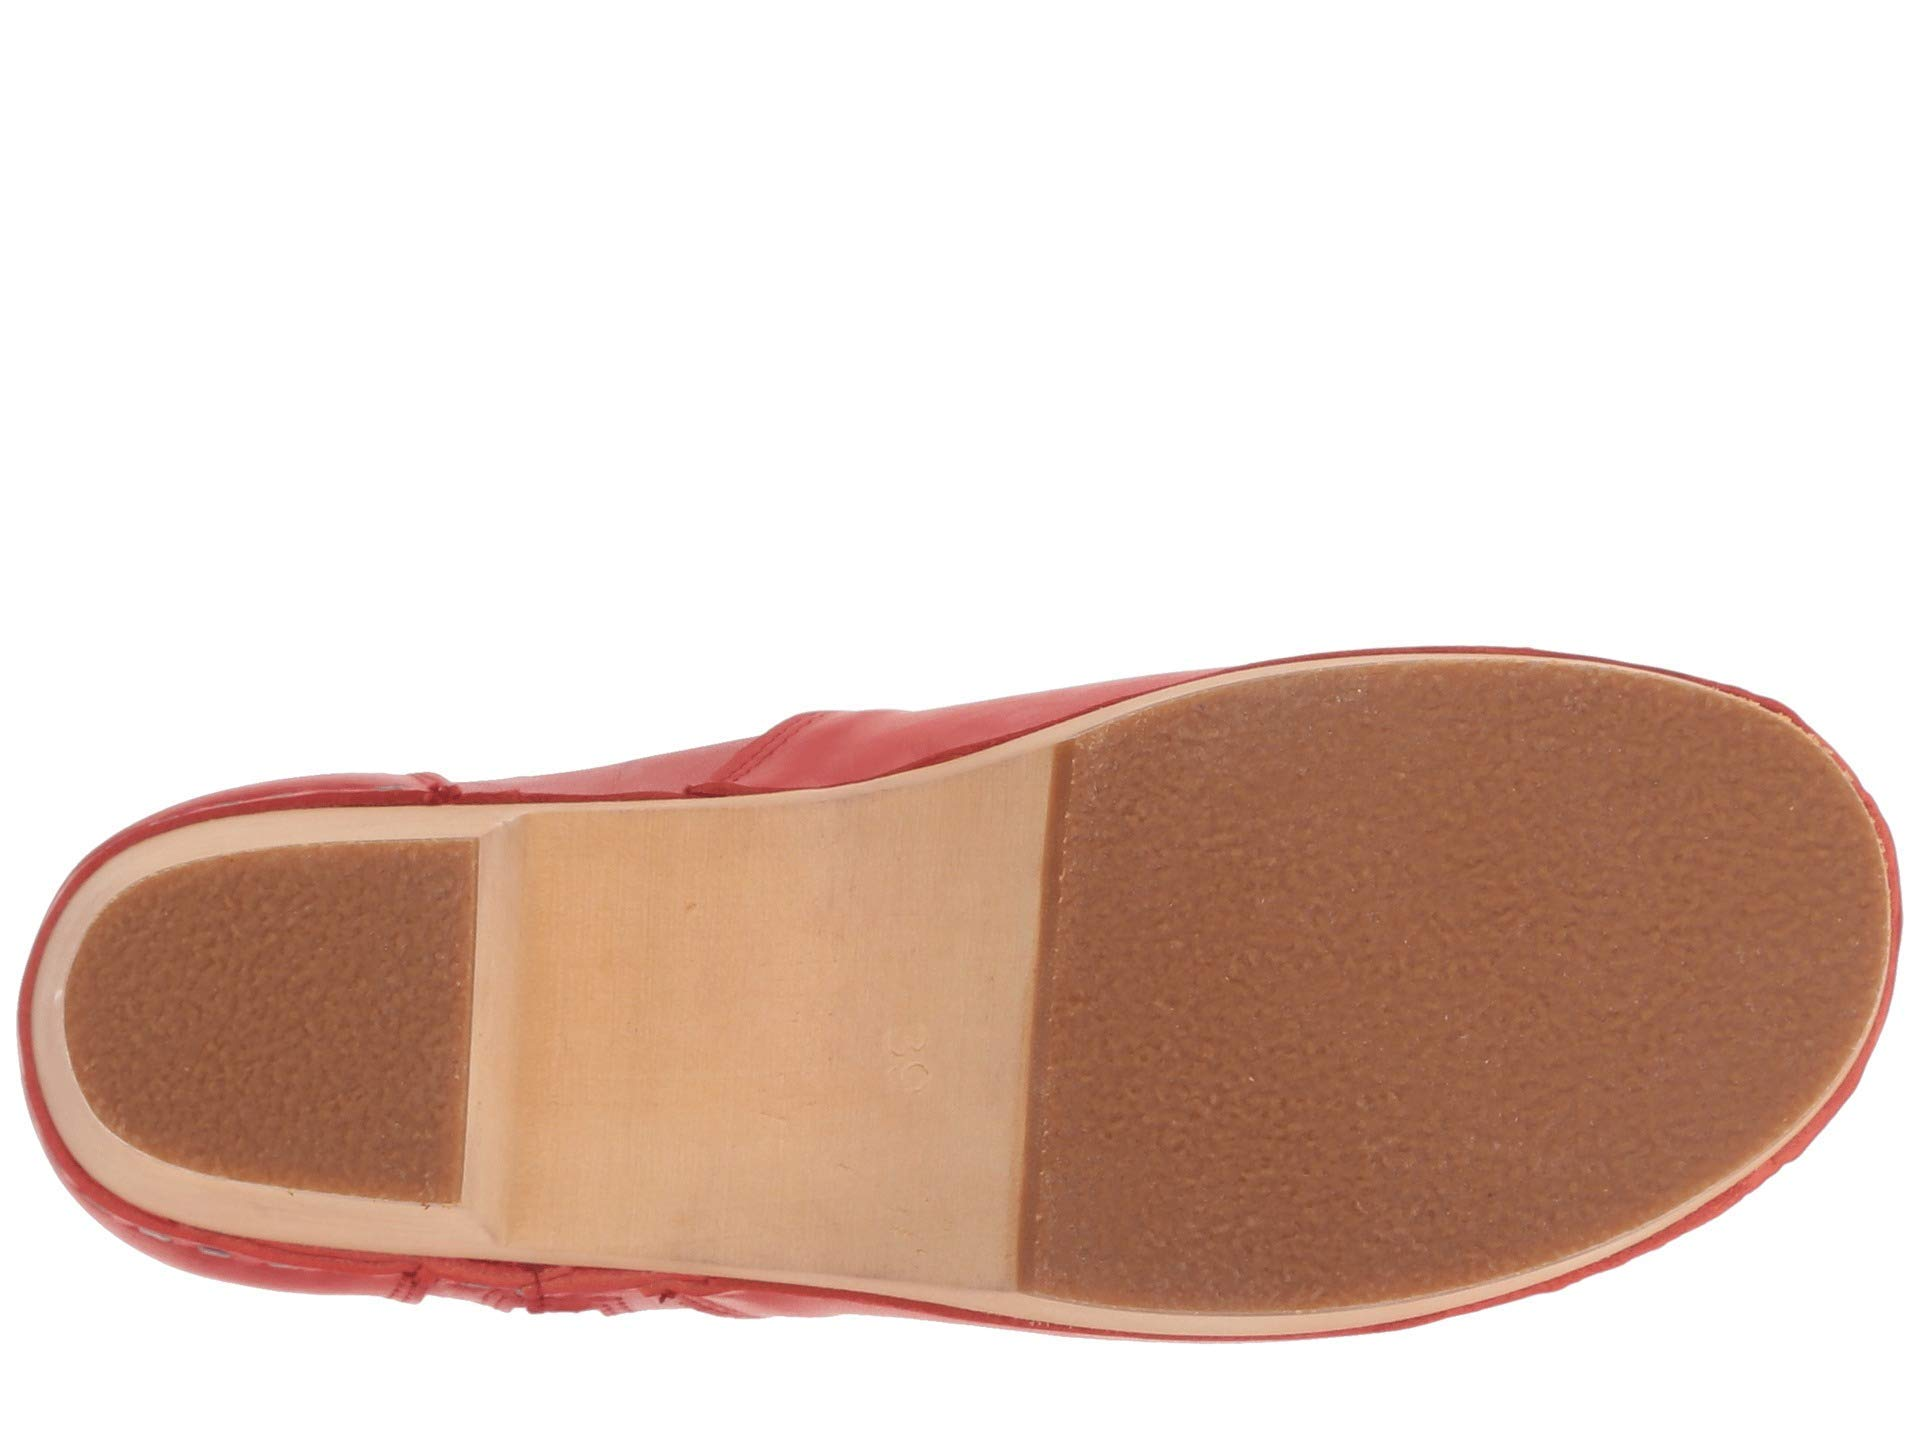other: (1019, 655, 1896, 1322), (73, 852, 470, 1209)
